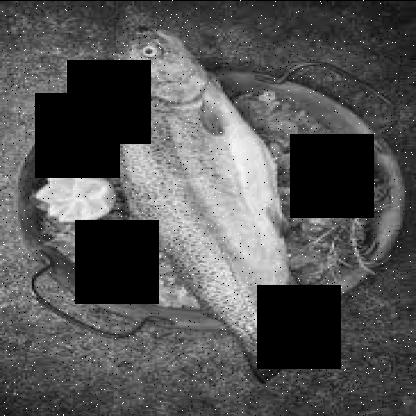fish: (106, 25, 326, 384)
